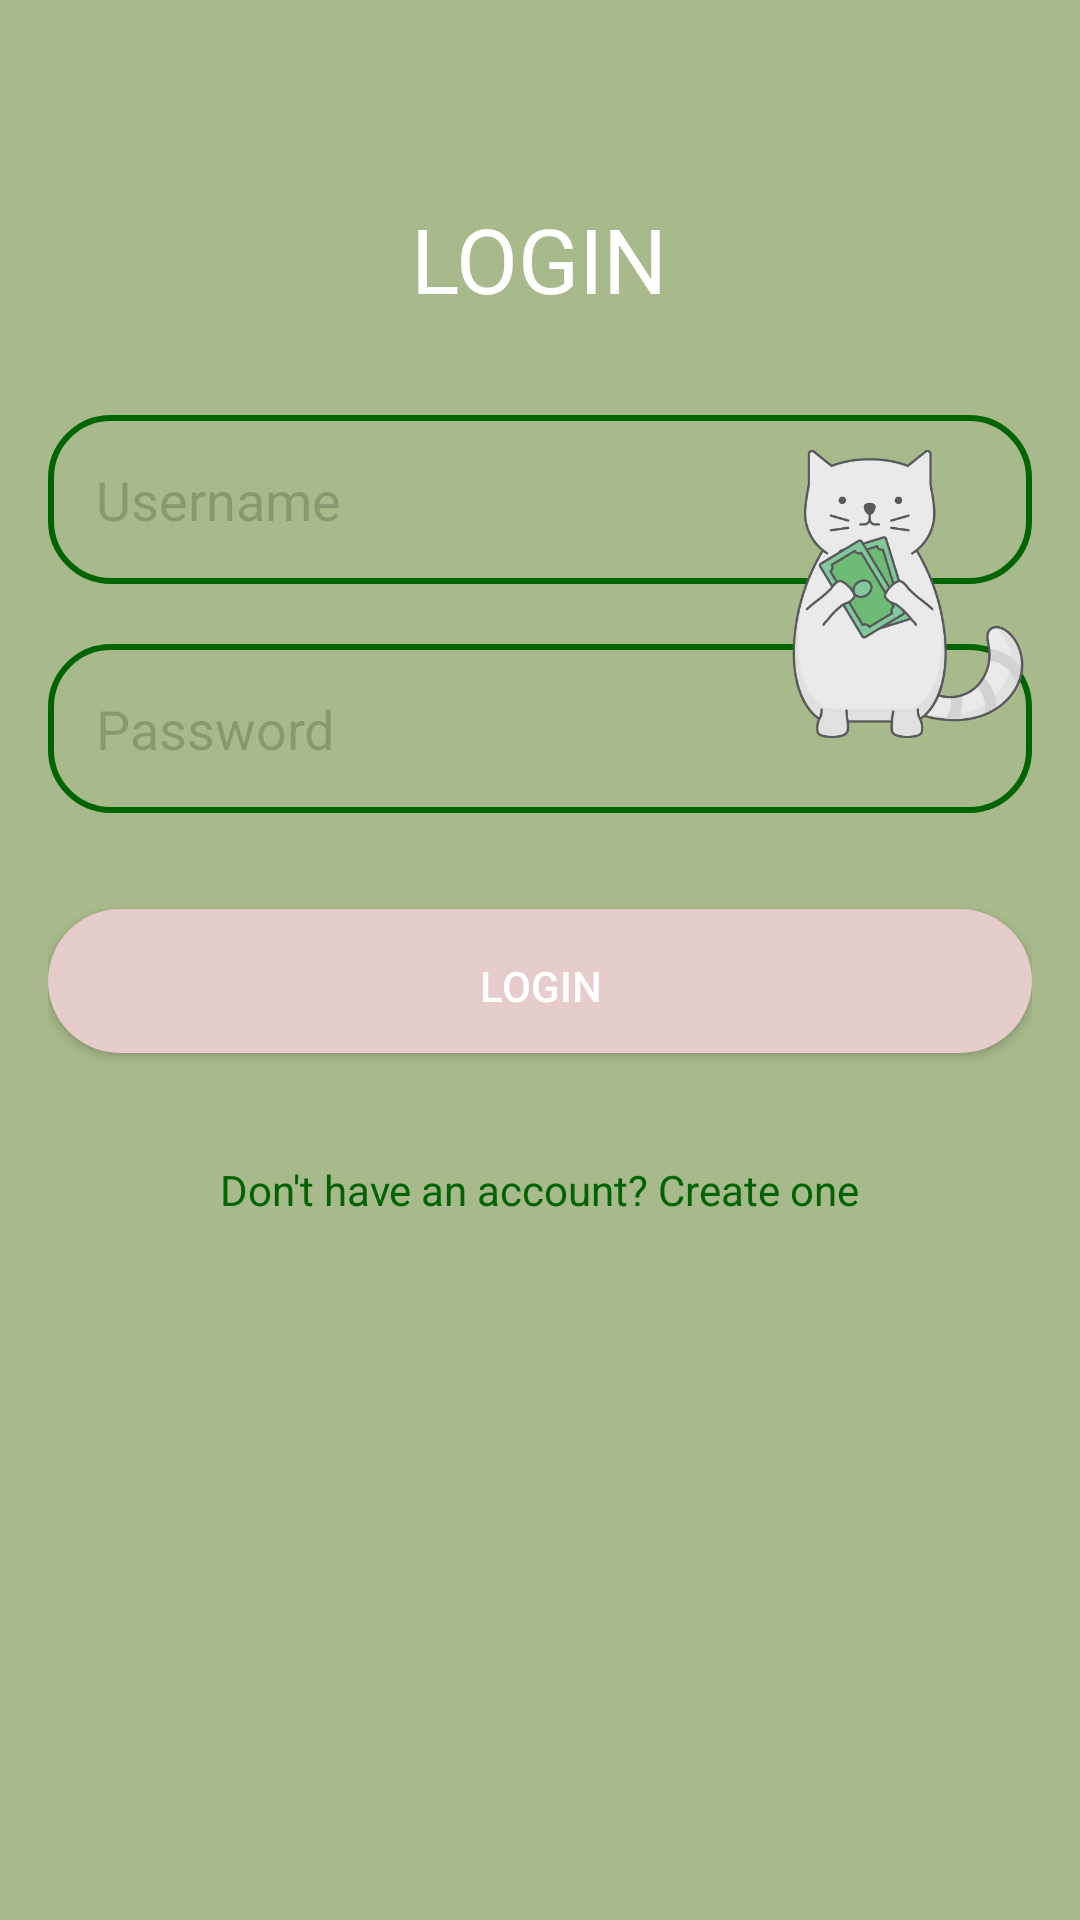

Screen size 1080 x 1920. Icon name, then its center in pixels as point (x, y):
money: point (895, 594)
